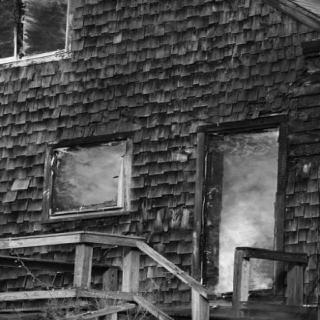Fire: (195, 117, 298, 296), (46, 128, 136, 220), (2, 1, 68, 57)
